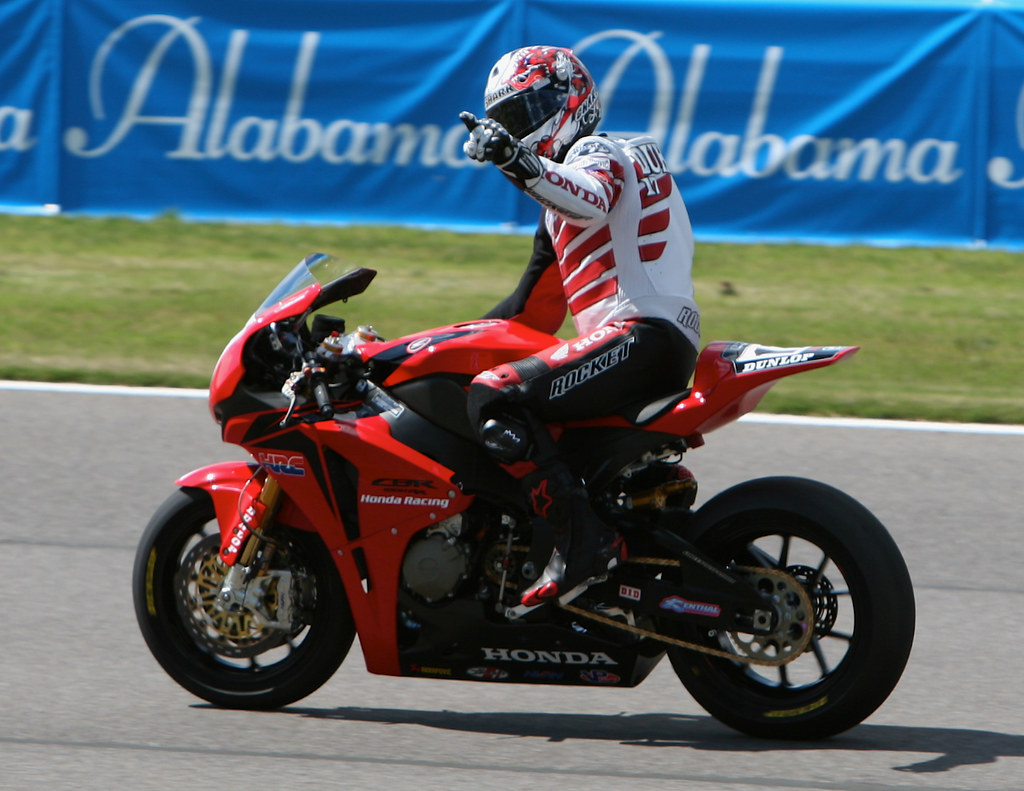helmet: (479, 50, 604, 165)
